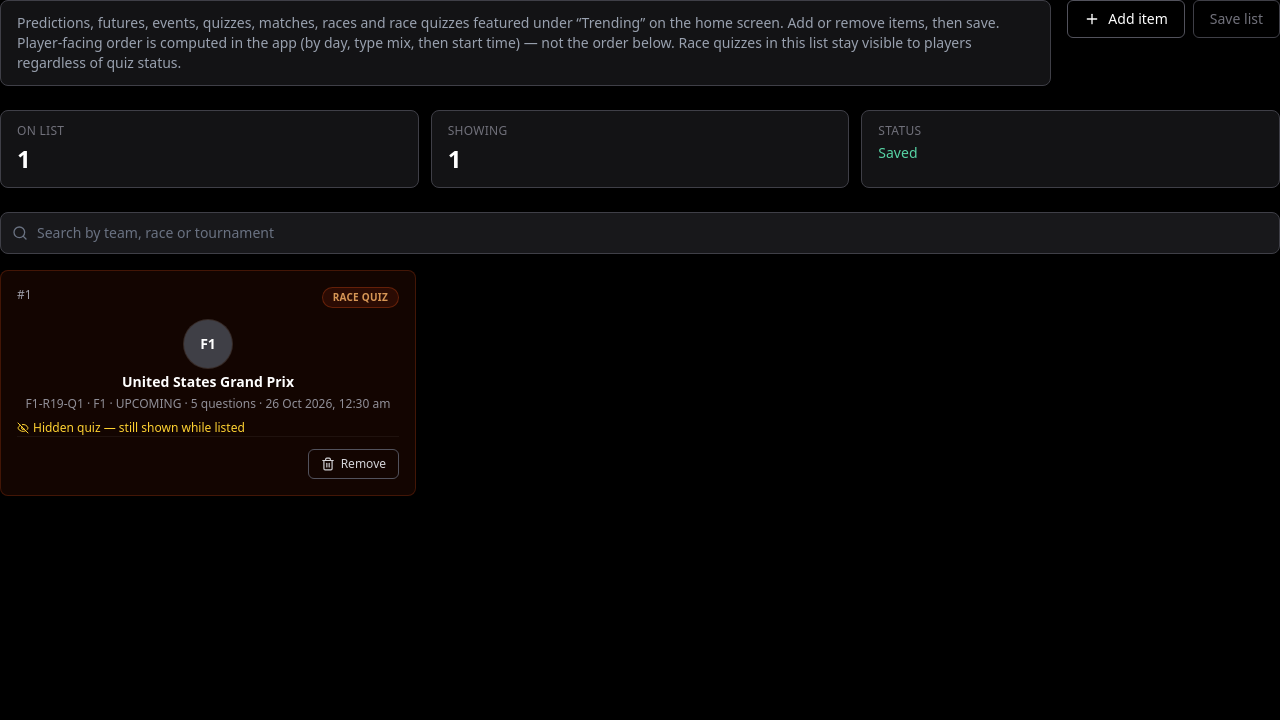
Scenario: trending motorsport quizzes › says when a race has no quizzes, and goes back to the races
Click the button "Add item": [1126, 19] box [1067,0,1185,38]
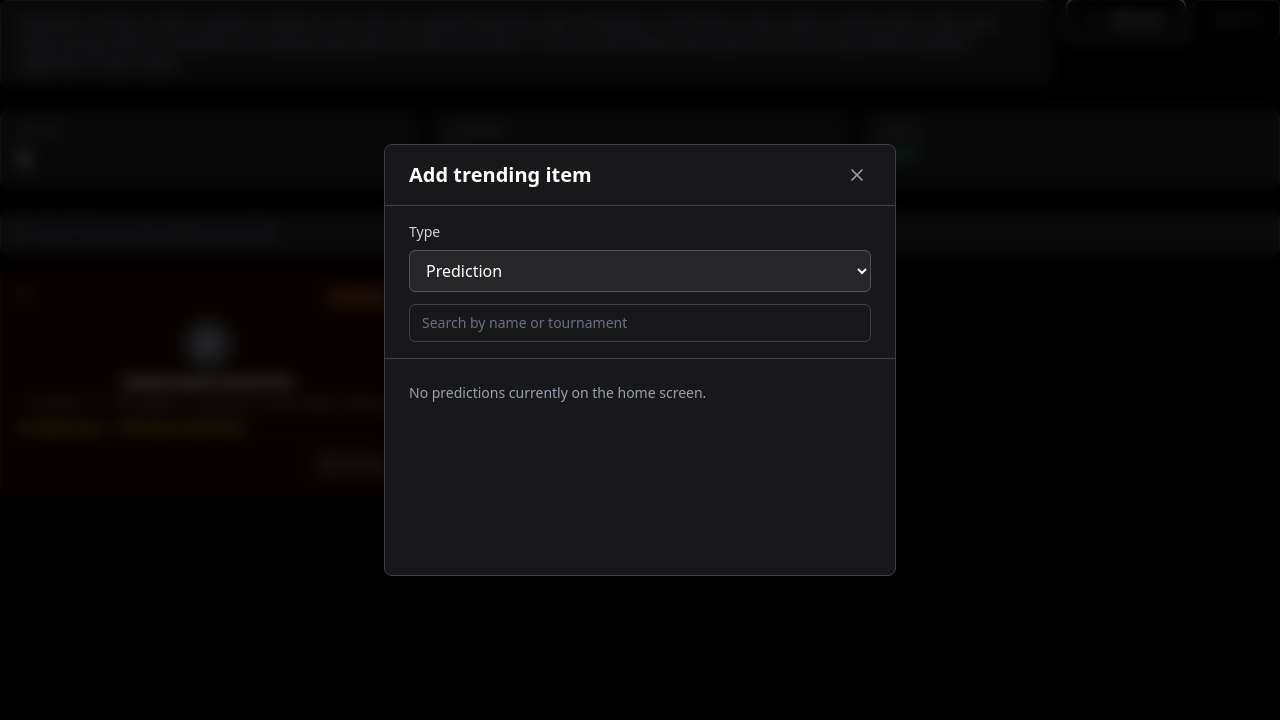
Select "Race quiz" in the dropdown: [640, 271] box [409,250,871,292]
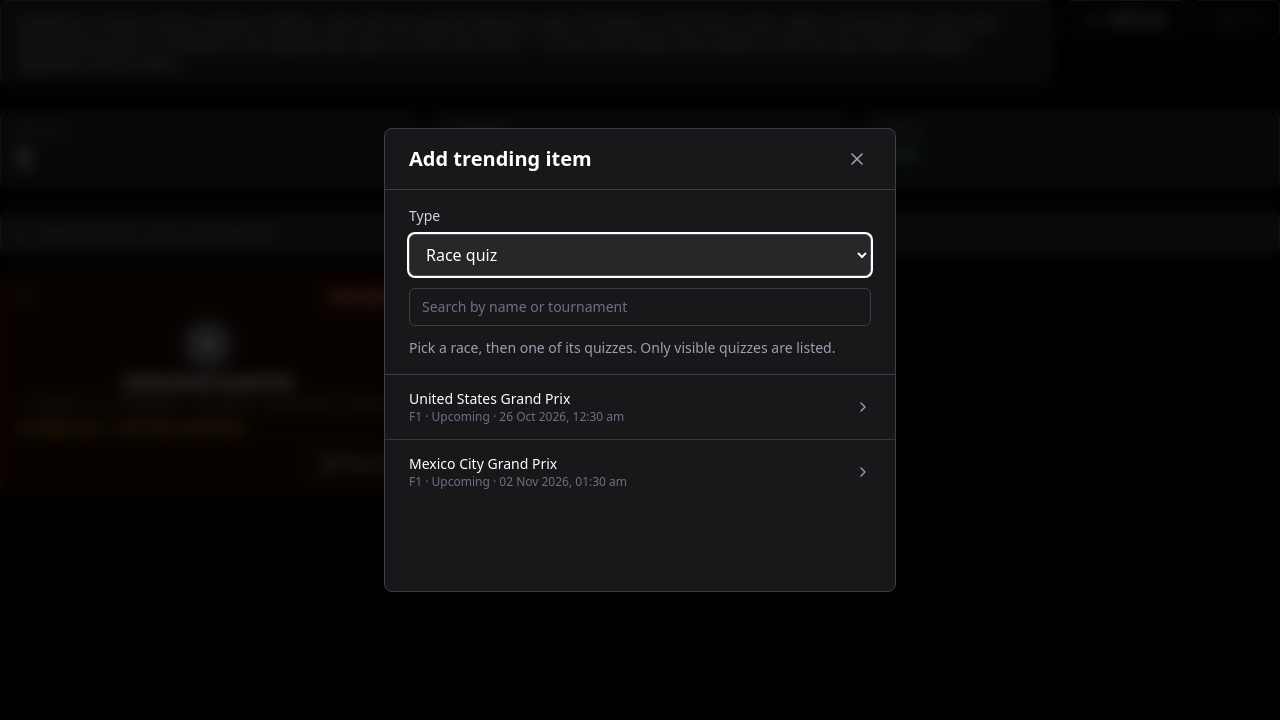
Click the button "Mexico City Grand Prix F1 · Upcoming · 02 Nov 2026, 01:30 am": [483, 464] box [385,440,895,504]
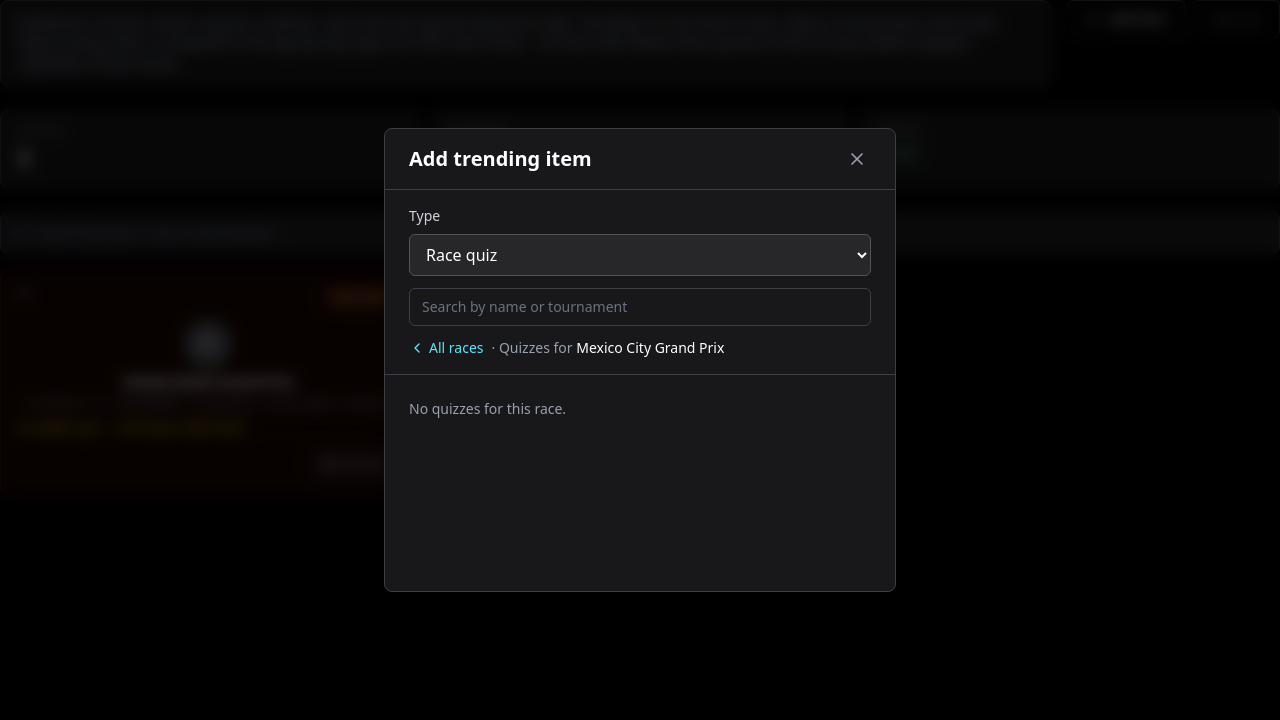
Now the text "No quizzes for this race." is shown, box [409,399,566,418]
Click the button "All races": [446, 348] box [409,338,484,358]
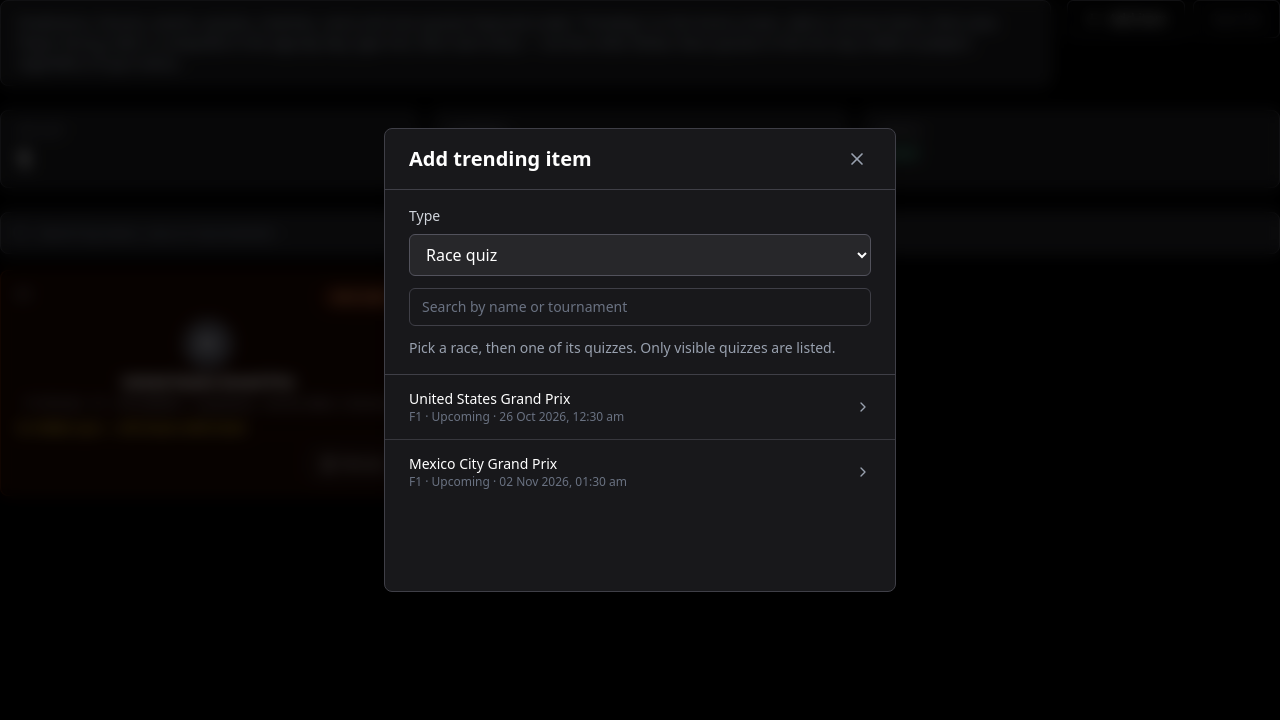
Now the button "Mexico City Grand Prix F1 · Upcoming · 02 Nov 2026, 01:30 am" is shown, box [385,440,895,504]
